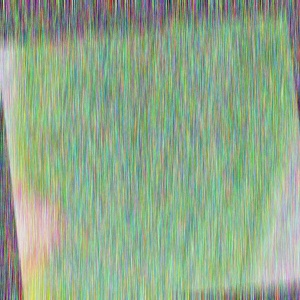Brown_Spot: (16, 165, 80, 288)
